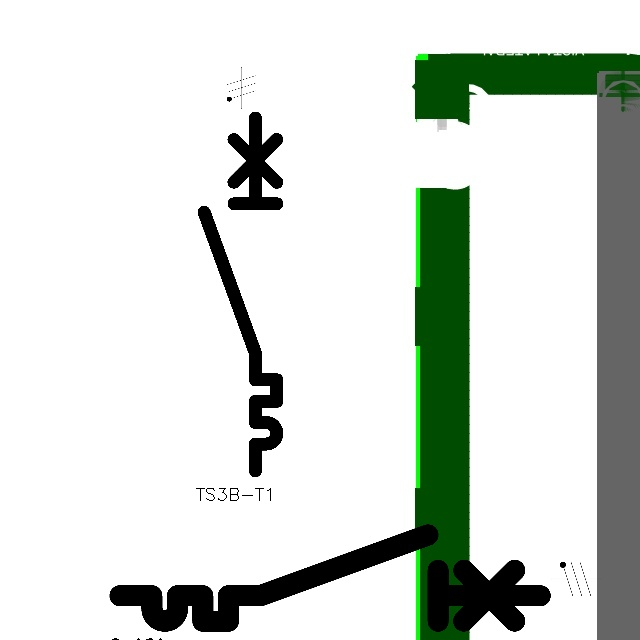interruptor_termomagnetico: (109, 524, 551, 632), (195, 108, 286, 479)
